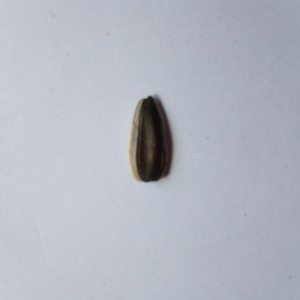girasol: (127, 94, 176, 185)
